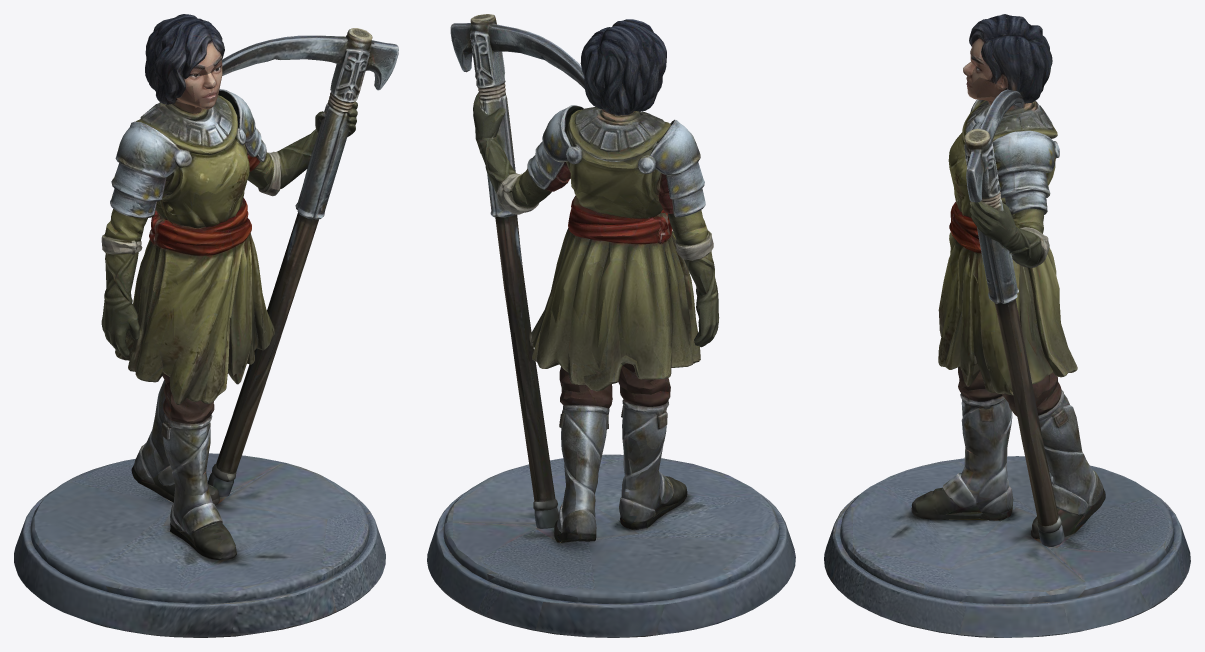
Rendered from iona.glb.
3 renders of one model, left to right at view 1: azimuth 30°, elevation 25°; view 2: azimuth 150°, elevation 25°; view 3: azimuth 270°, elevation 25°, orthographic.
Parts seen in each view (by area): view 1: output_unwrapped; view 2: output_unwrapped; view 3: output_unwrapped.
Part boxes in pixels (<box>): output_unwrapped: <box>14,14,398,637</box>; output_unwrapped: <box>427,14,795,637</box>; output_unwrapped: <box>824,14,1190,637</box>.
Bounding box in the file's own units: 1.24 × 1.9 × 1.18.
Materials: 1 (1 with a texture image).
